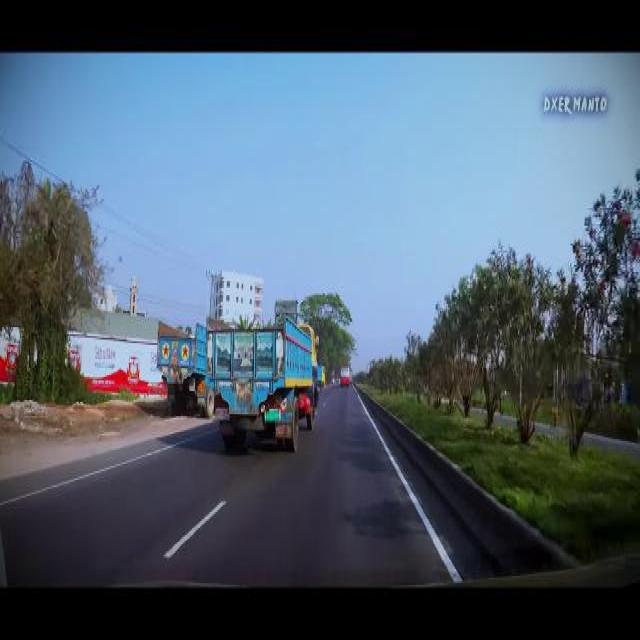bus: (339, 364, 349, 386)
truck: (205, 306, 318, 451), (155, 320, 213, 420)
